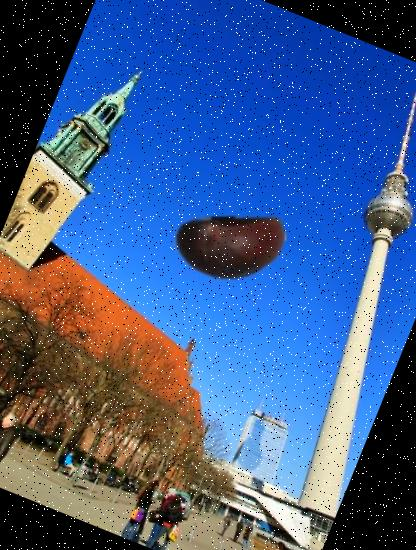Chestnut: (157, 176, 303, 322)
